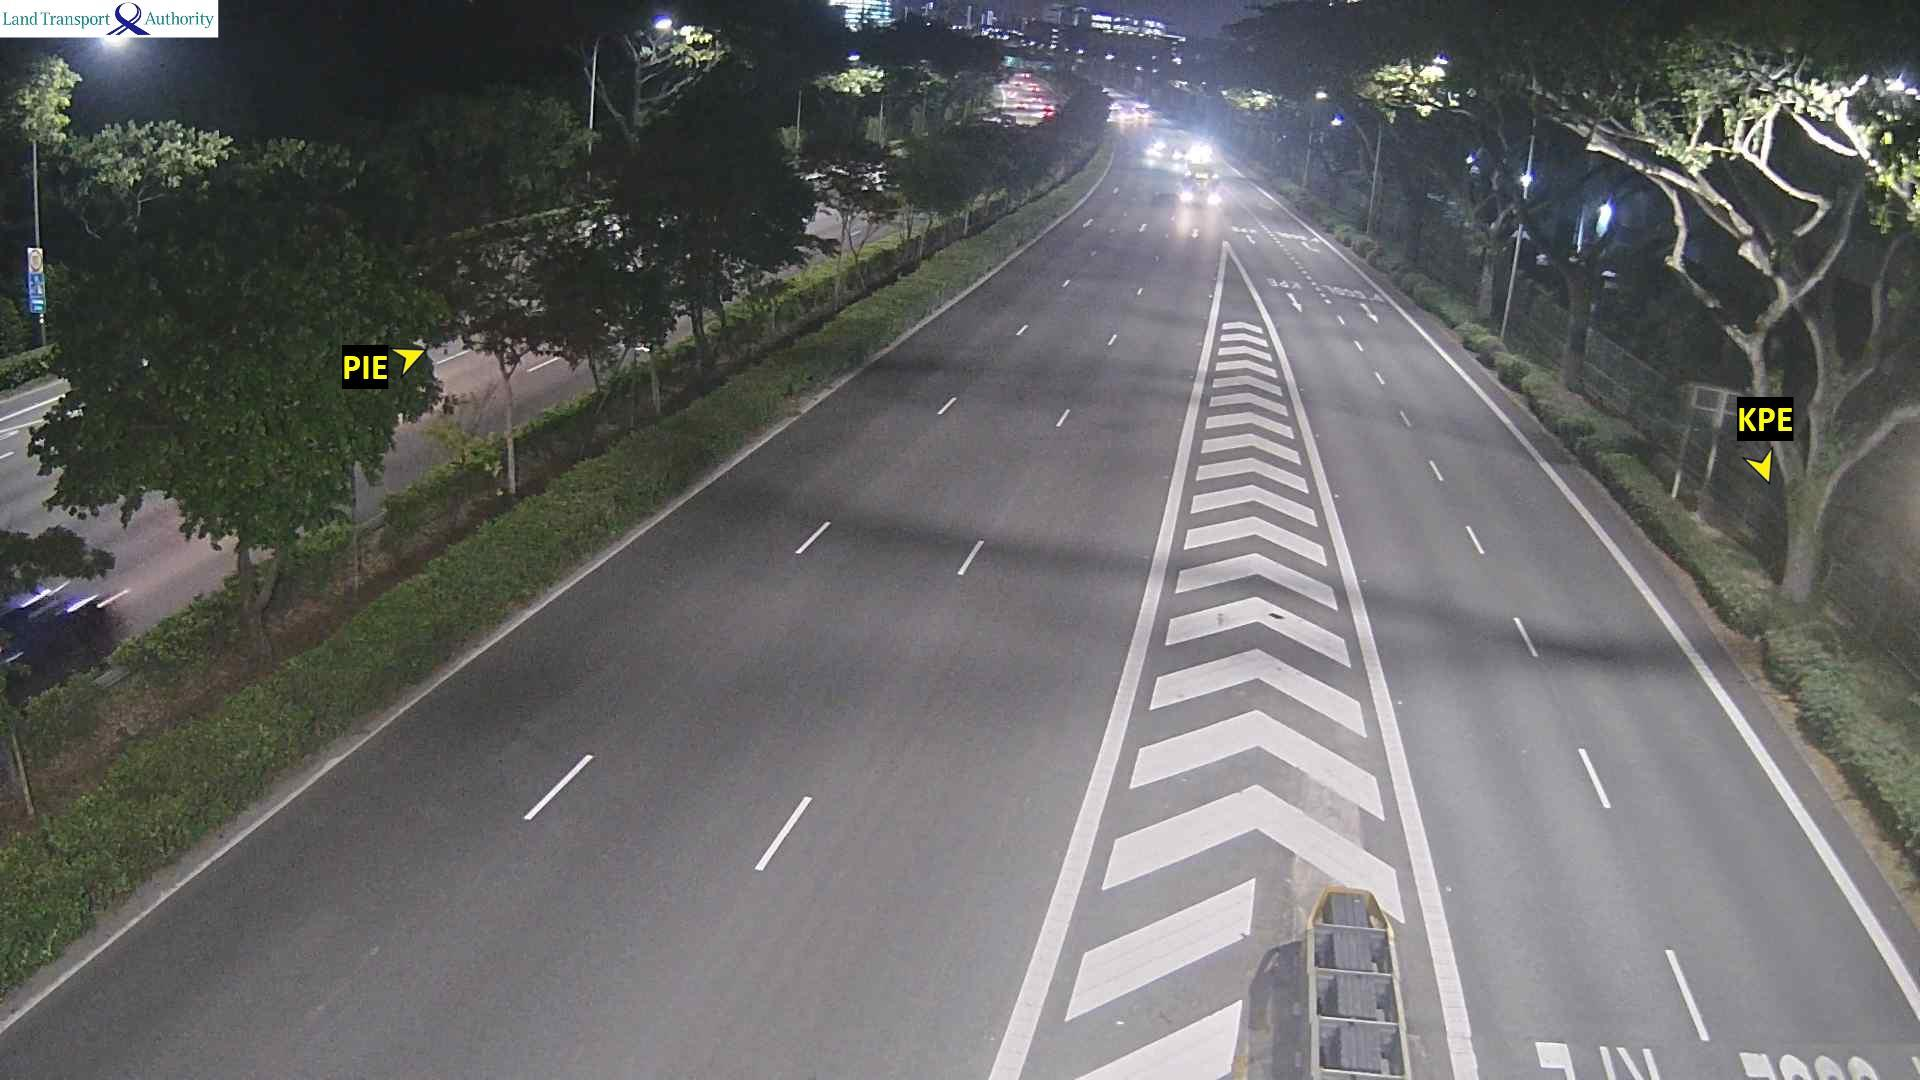bus: (1180, 169, 1220, 207)
cars: (0, 575, 120, 669), (1141, 136, 1170, 164)
trucks: (1226, 884, 1414, 1077)
